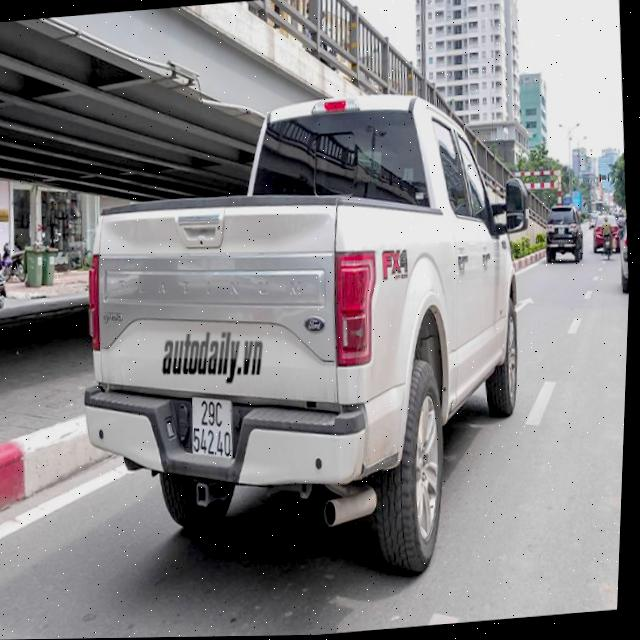car: (50, 81, 572, 574), (536, 196, 587, 266)
plate: (178, 391, 239, 464)
